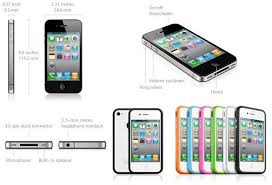iphone: (42, 16, 83, 96)
iphone4: (42, 15, 83, 95)
